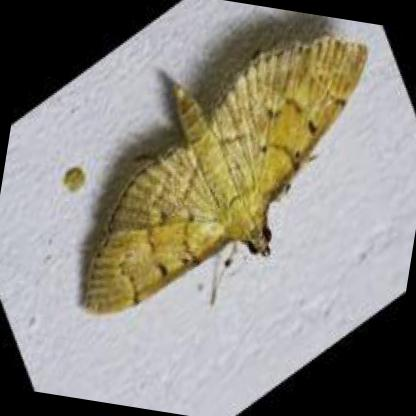Leaf Webber: (82, 39, 368, 315)
